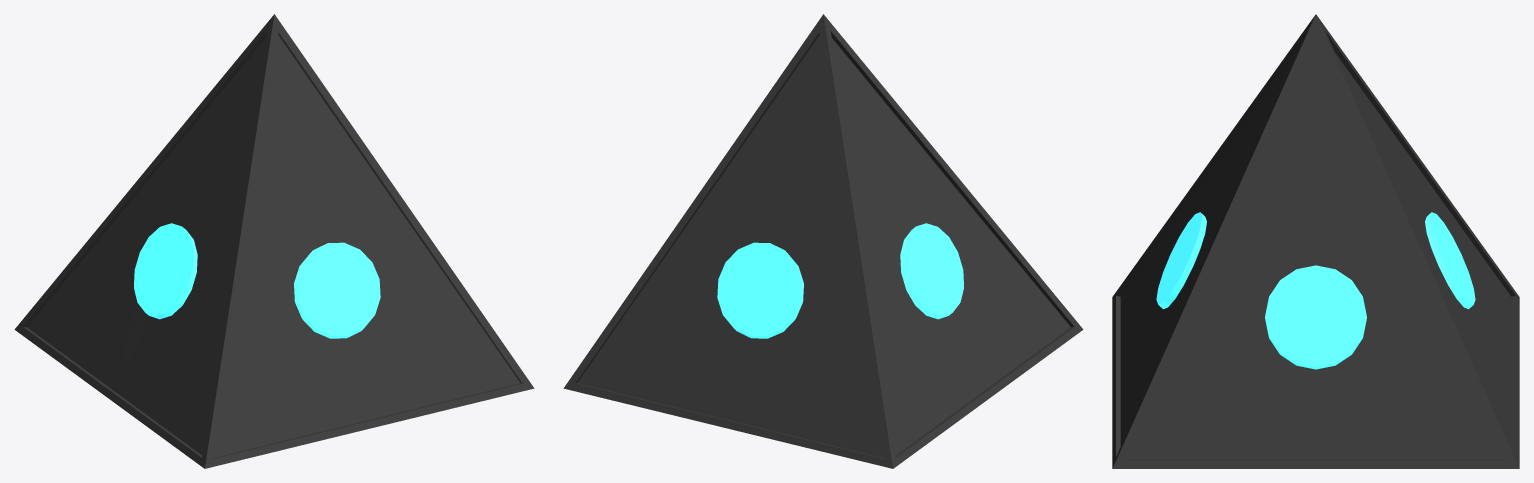
The model's file is Pyramid Building Block Model.fbx.
3 renders of one model, left to right at view 1: azimuth 30°, elevation 25°; view 2: azimuth 150°, elevation 25°; view 3: azimuth 270°, elevation 25°, orthographic. The views are drawn at different scales.
Visible parts, largest first — view 1: Pyramid Building Block; view 2: Pyramid Building Block; view 3: Pyramid Building Block.
Part boxes in pixels (box(x1,y1,x2,y2)): Pyramid Building Block: box(14, 14, 534, 468); Pyramid Building Block: box(563, 14, 1083, 468); Pyramid Building Block: box(1112, 14, 1519, 468).
Bounding box in the file's own units: 200 × 200 × 200.
